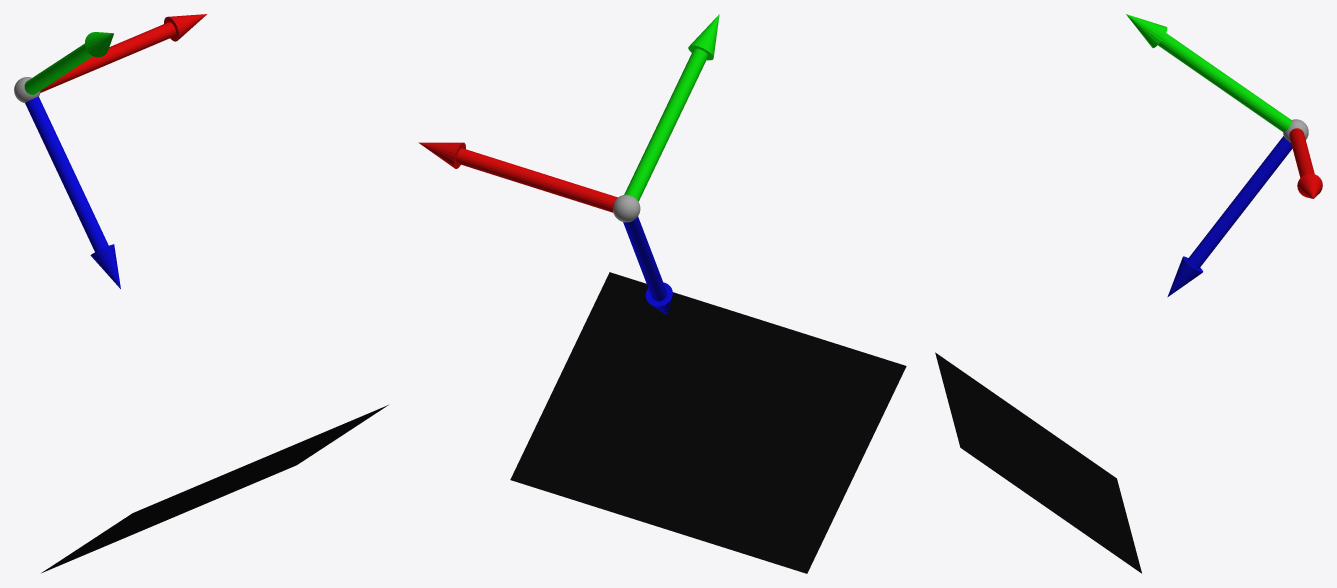
The picture shows the model from 3 angles, left to right: view 1: azimuth 30°, elevation 25°; view 2: azimuth 150°, elevation 25°; view 3: azimuth 270°, elevation 25°; orthographic projection. The views are drawn at different scales.
Size of the model in its own units: 0.1771 by 0.3233 by 0.2265.
